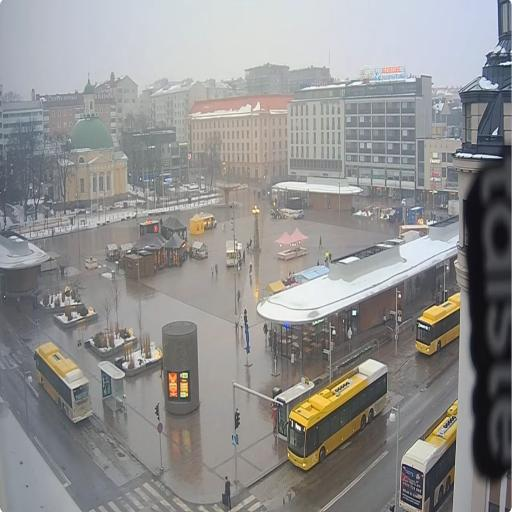Bus: (287, 359, 387, 470), (399, 399, 458, 511), (34, 342, 92, 423), (416, 292, 460, 355)
